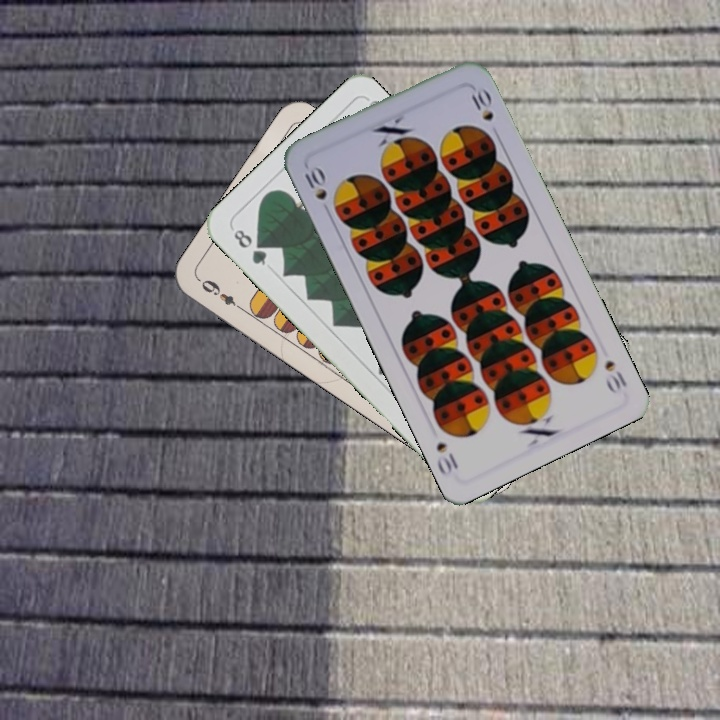E9: (194, 275, 247, 314)
G8: (229, 225, 270, 269)
S10: (300, 162, 334, 218), (600, 355, 630, 397)
